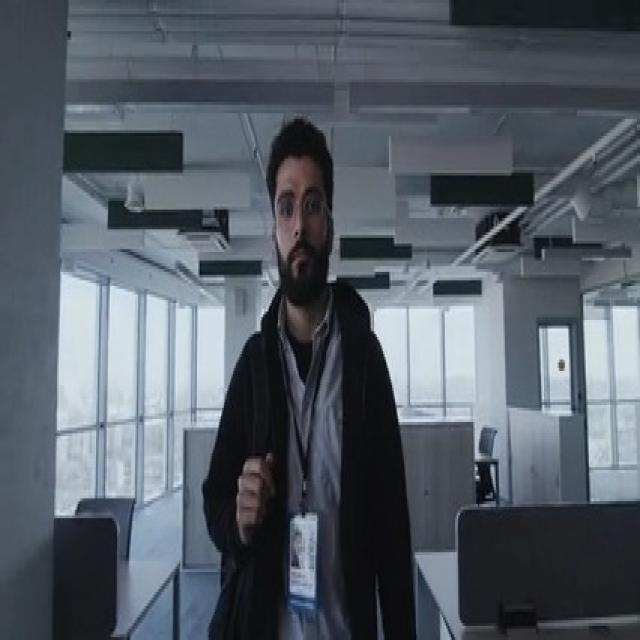Jacket_Wearer: (200, 255, 406, 640)
Person: (194, 113, 412, 640)
